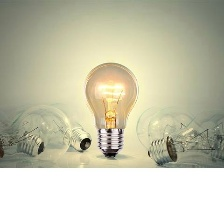light_bulb: (81, 59, 142, 158), (132, 102, 224, 163), (144, 101, 223, 169), (0, 100, 75, 171), (34, 98, 92, 154)
